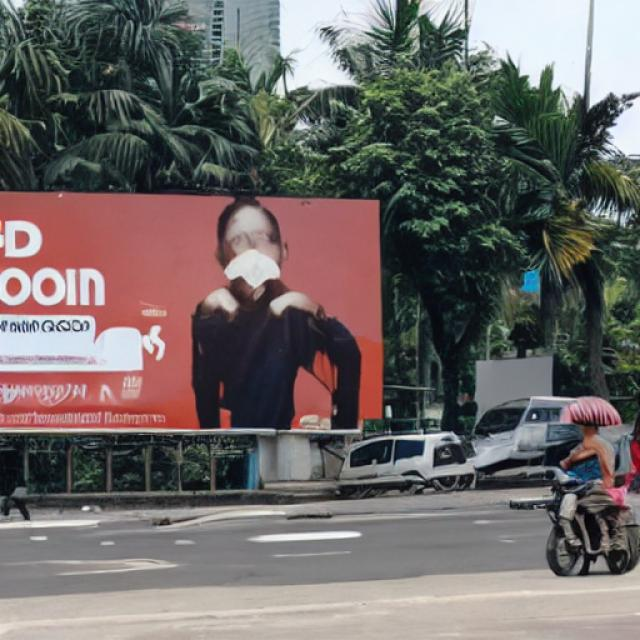Billboard: (0, 192, 392, 437)
